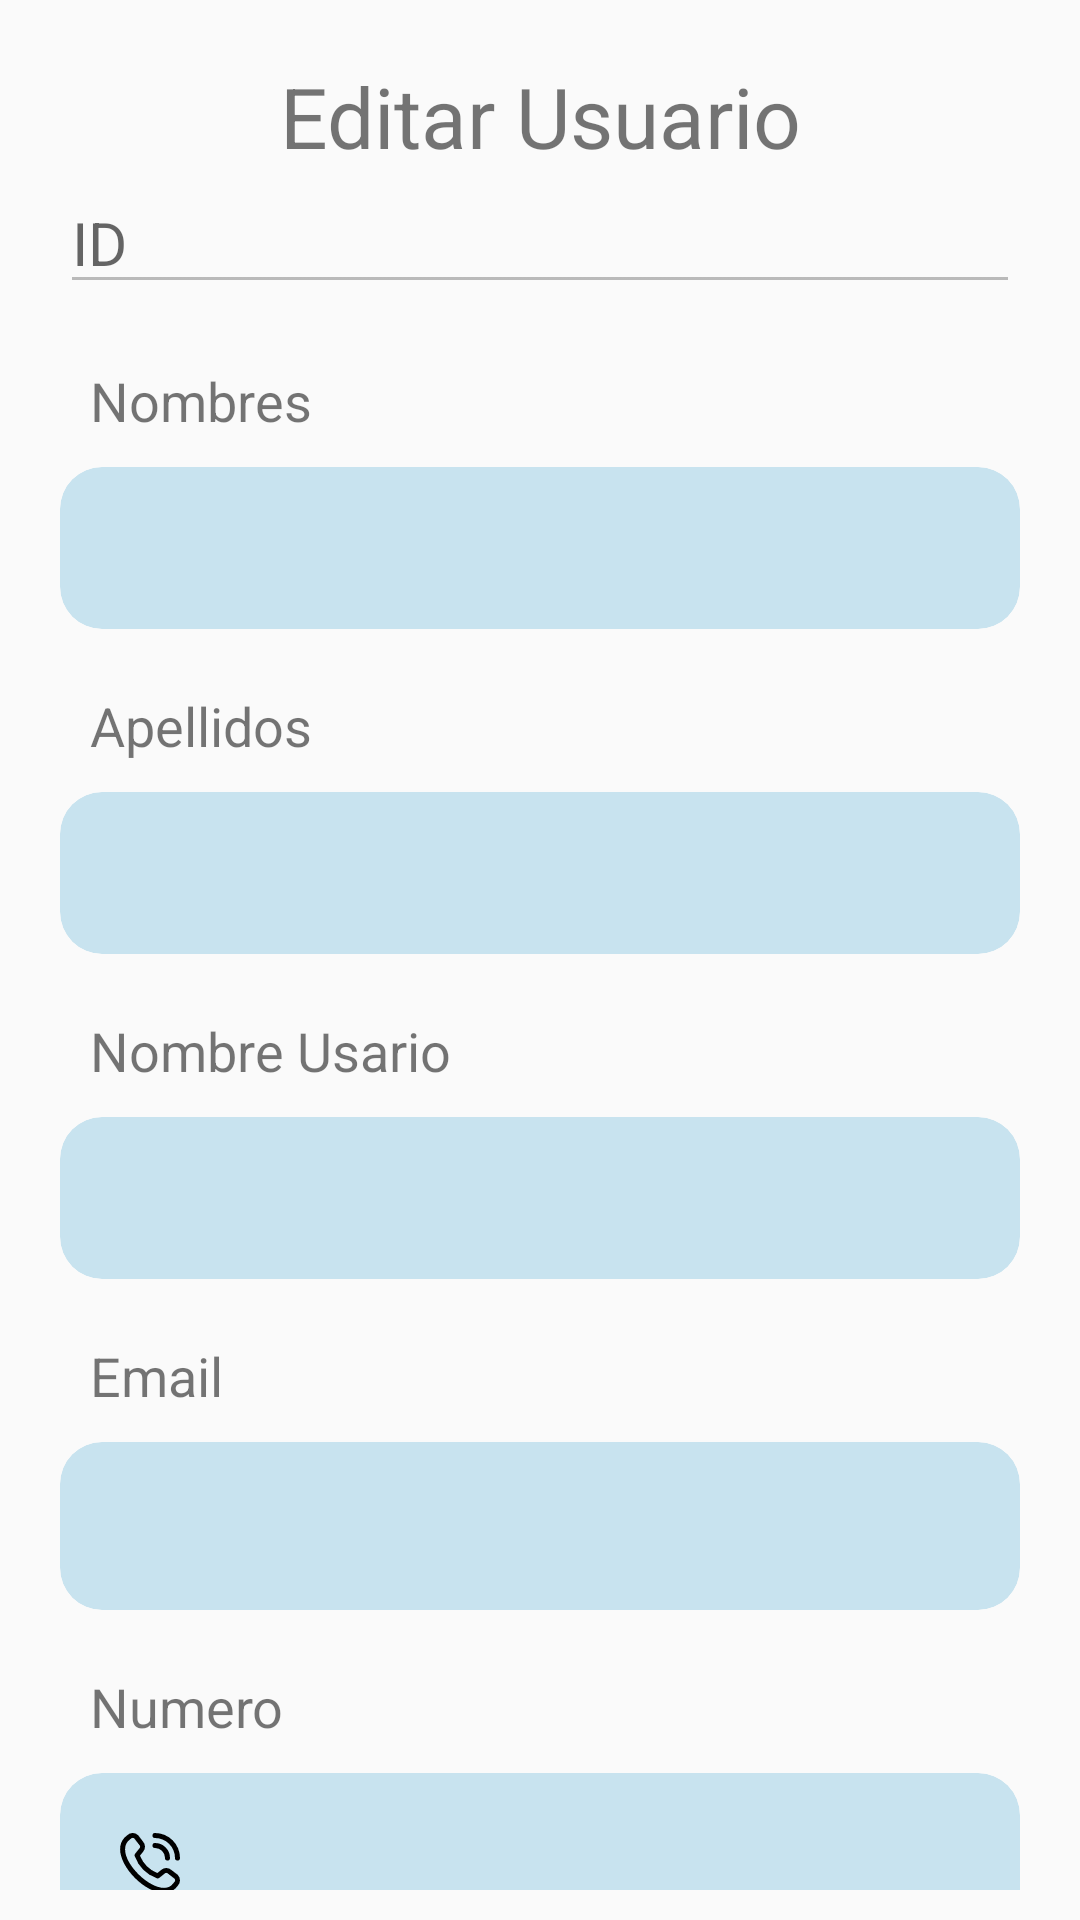

Icon click points for this 1080*1920 phone screenshot, format (x=x, y=y):
phone call: (x=150, y=1870)
